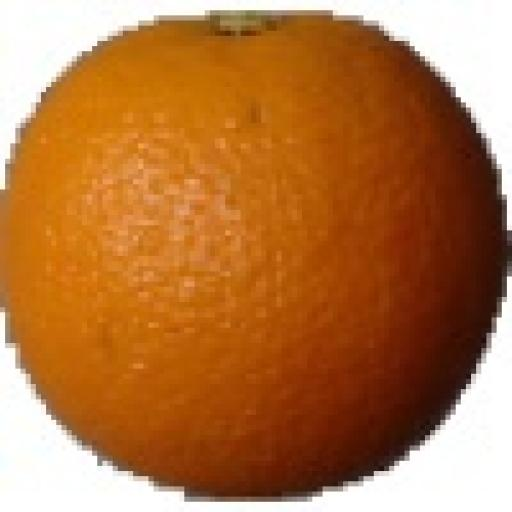orange: (6, 16, 506, 496)
